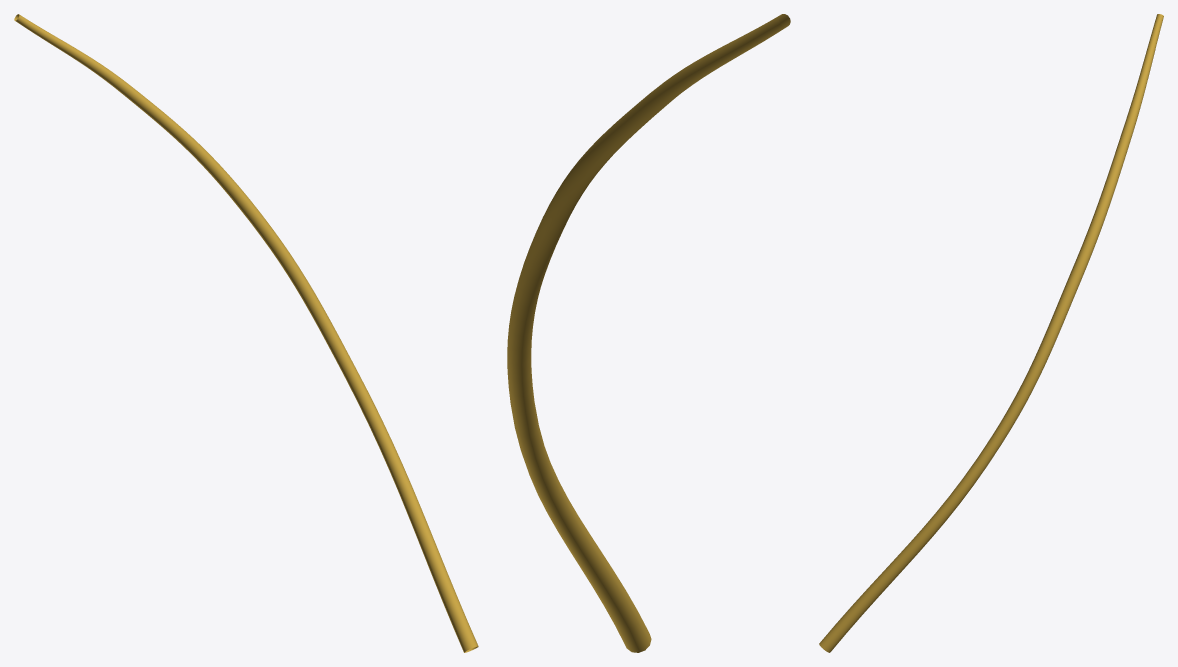
3 renders of one model, left to right at view 1: azimuth 30°, elevation 25°; view 2: azimuth 150°, elevation 25°; view 3: azimuth 270°, elevation 25°, orthographic. The views are drawn at different scales.
Parts seen in each view (by area): view 1: 左侧肩胛下神经上支; view 2: 左侧肩胛下神经上支; view 3: 左侧肩胛下神经上支.
Part boxes in pixels (bbox=[...]): 左侧肩胛下神经上支: bbox=[14, 14, 478, 652]; 左侧肩胛下神经上支: bbox=[507, 14, 790, 652]; 左侧肩胛下神经上支: bbox=[819, 14, 1163, 652].
Bounding box in the file's own units: 0.0474 × 0.0925 × 0.0557.
